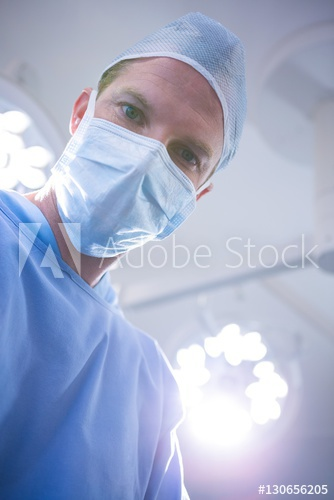mask: (64, 138, 191, 252)
